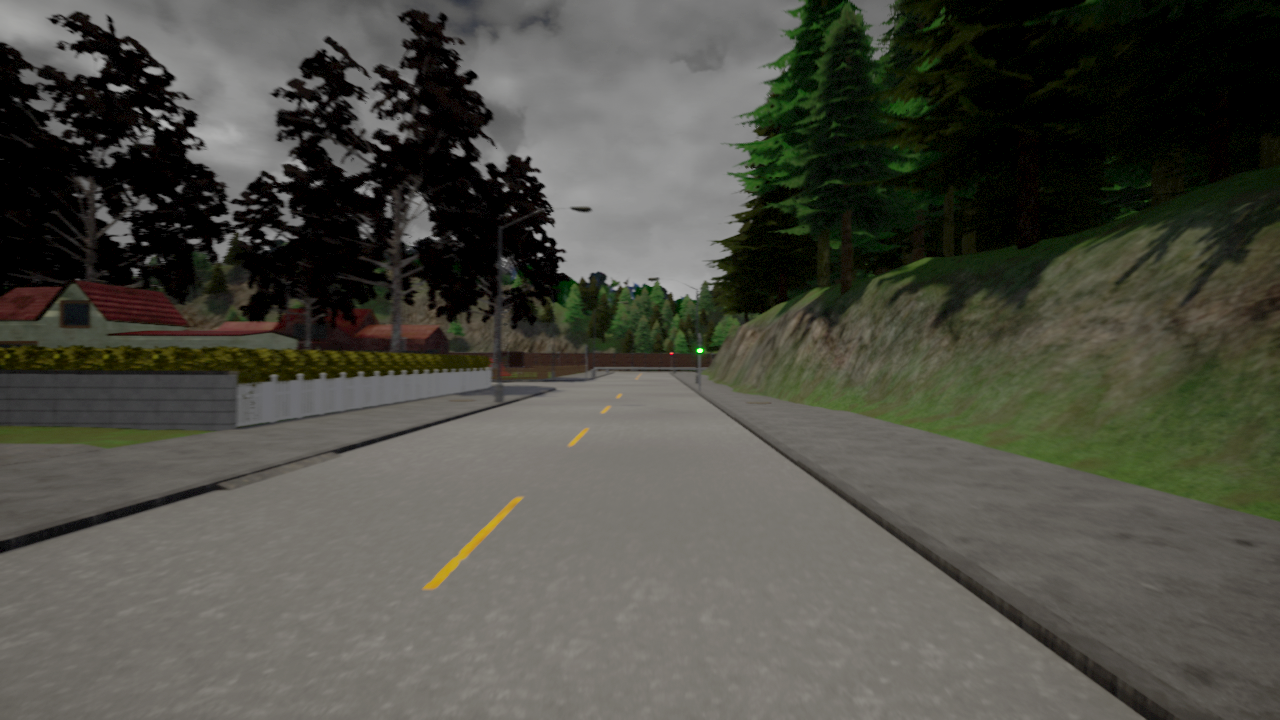green: (696, 338, 704, 354)
